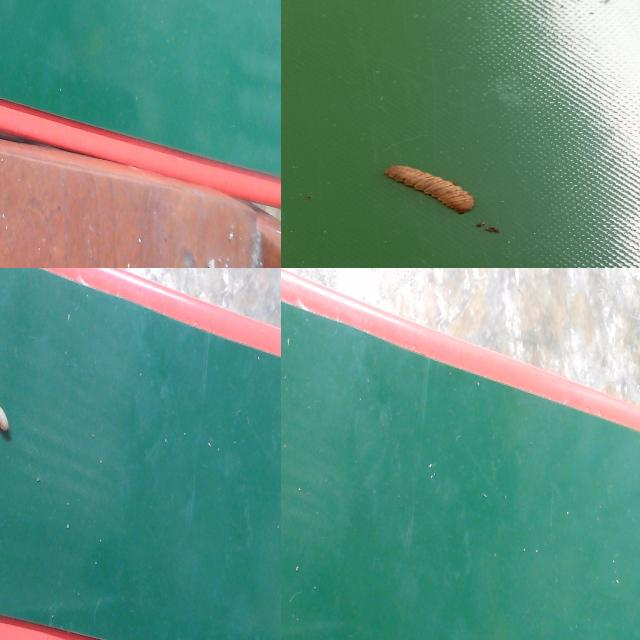Maggot: (386, 164, 476, 216), (0, 401, 11, 440)
